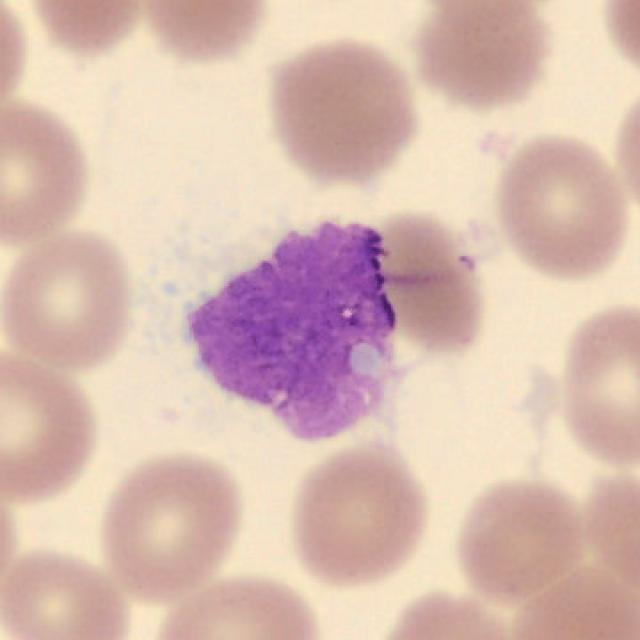Restos celulares: (188, 222, 396, 441)
